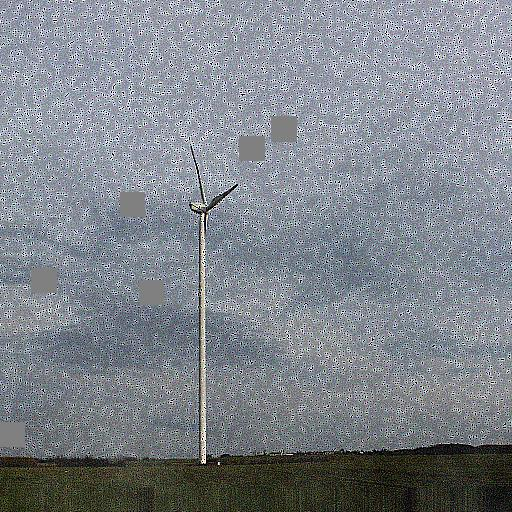wind turbine: (182, 138, 240, 461)
